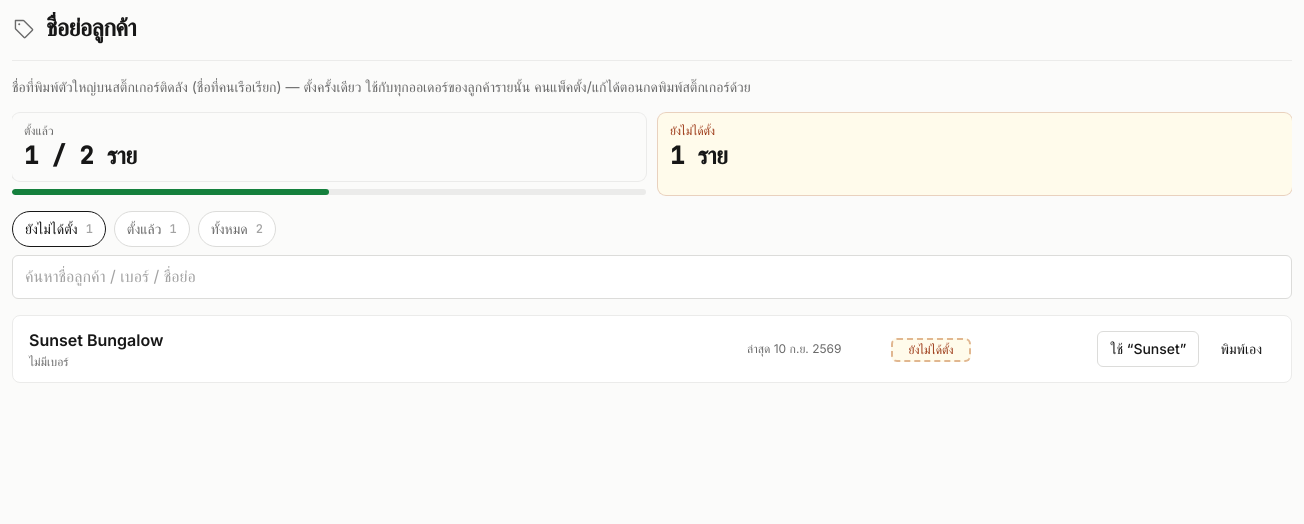
one tap uses the suggested name
Click the button "ใช้ “Sunset”" at (1148, 349), box [1097,331,1199,367]
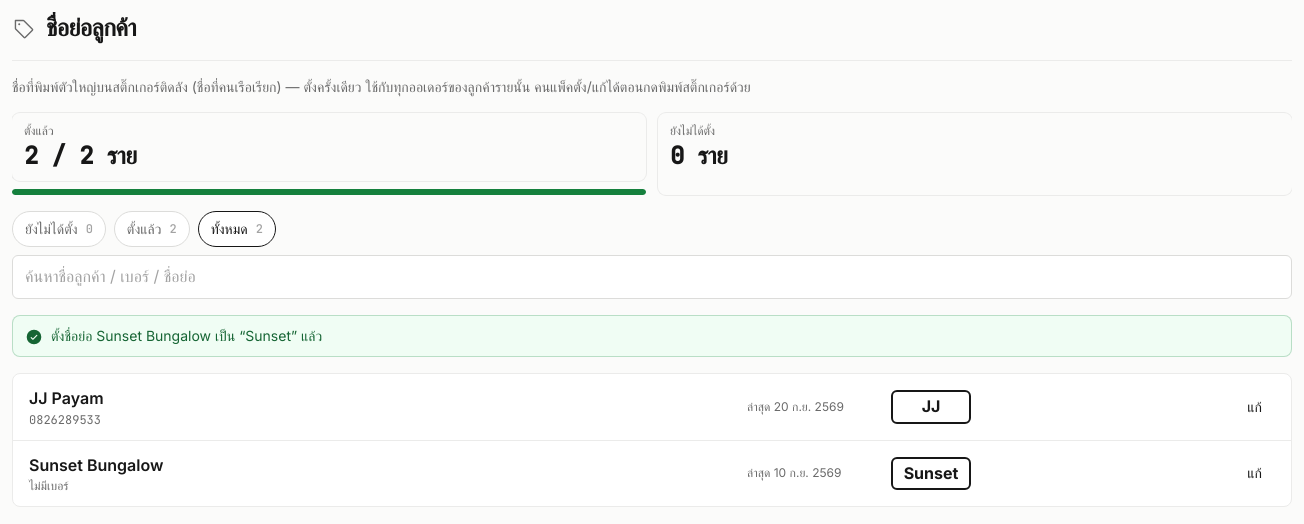
Result: the text "ตั้งชื่อย่อ Sunset Bungalow เป็น “Sunset” แล้ว" is shown at [51,326,322,346]
Result: the text "ตั้งแล้ว" shows "2 / 2 ราย" at [24,140,137,171]
